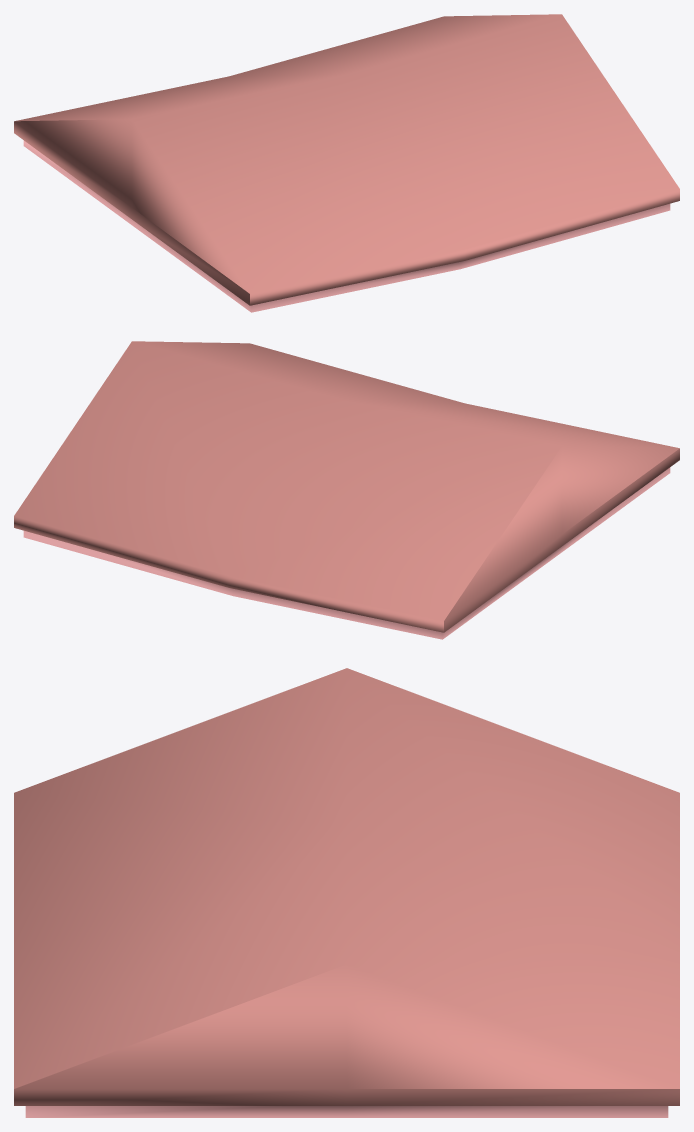
Rendered from Building_B_10.fbx.
The picture shows the model from 3 angles, top to bottom: view 1: azimuth 30°, elevation 25°; view 2: azimuth 150°, elevation 25°; view 3: azimuth 270°, elevation 25°; orthographic projection. The views are drawn at different scales.
Parts seen in each view (by area): view 1: Building_B_10; view 2: Building_B_10; view 3: Building_B_10.
Boxes of the visible parts, box(x1,y1,x2,y2) form: Building_B_10: box(14, 14, 679, 312); Building_B_10: box(14, 341, 679, 639); Building_B_10: box(14, 668, 679, 1117).
Bounding box in the file's own units: 474 × 125 × 450.
